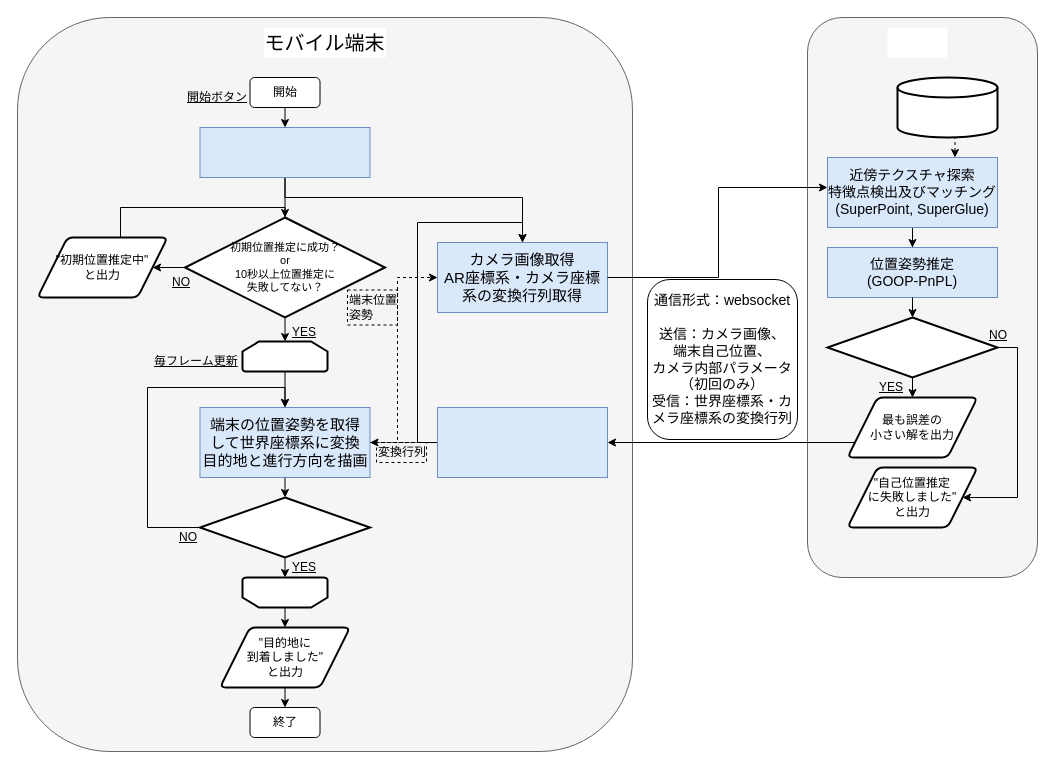
This 1055x769 diagram has some shape labels left out. Each missing label, with the centre of its shape:
"PC" goes at (x=917, y=42).
"マップの表示と 目的地の設定" goes at (x=284, y=152).
"ループ終了" goes at (x=284, y=592).
"ループ開始" goes at (x=284, y=356).
"変換行列を受け取ったら、 世界座標系・AR座標系の 変換行列を計算" goes at (x=522, y=442).
"端末位置は目的地周辺？" goes at (x=284, y=527).
"端末位置姿勢との 誤差は閾値以内？" goes at (x=912, y=347).
"簡易3Dモデル" goes at (x=947, y=107).
